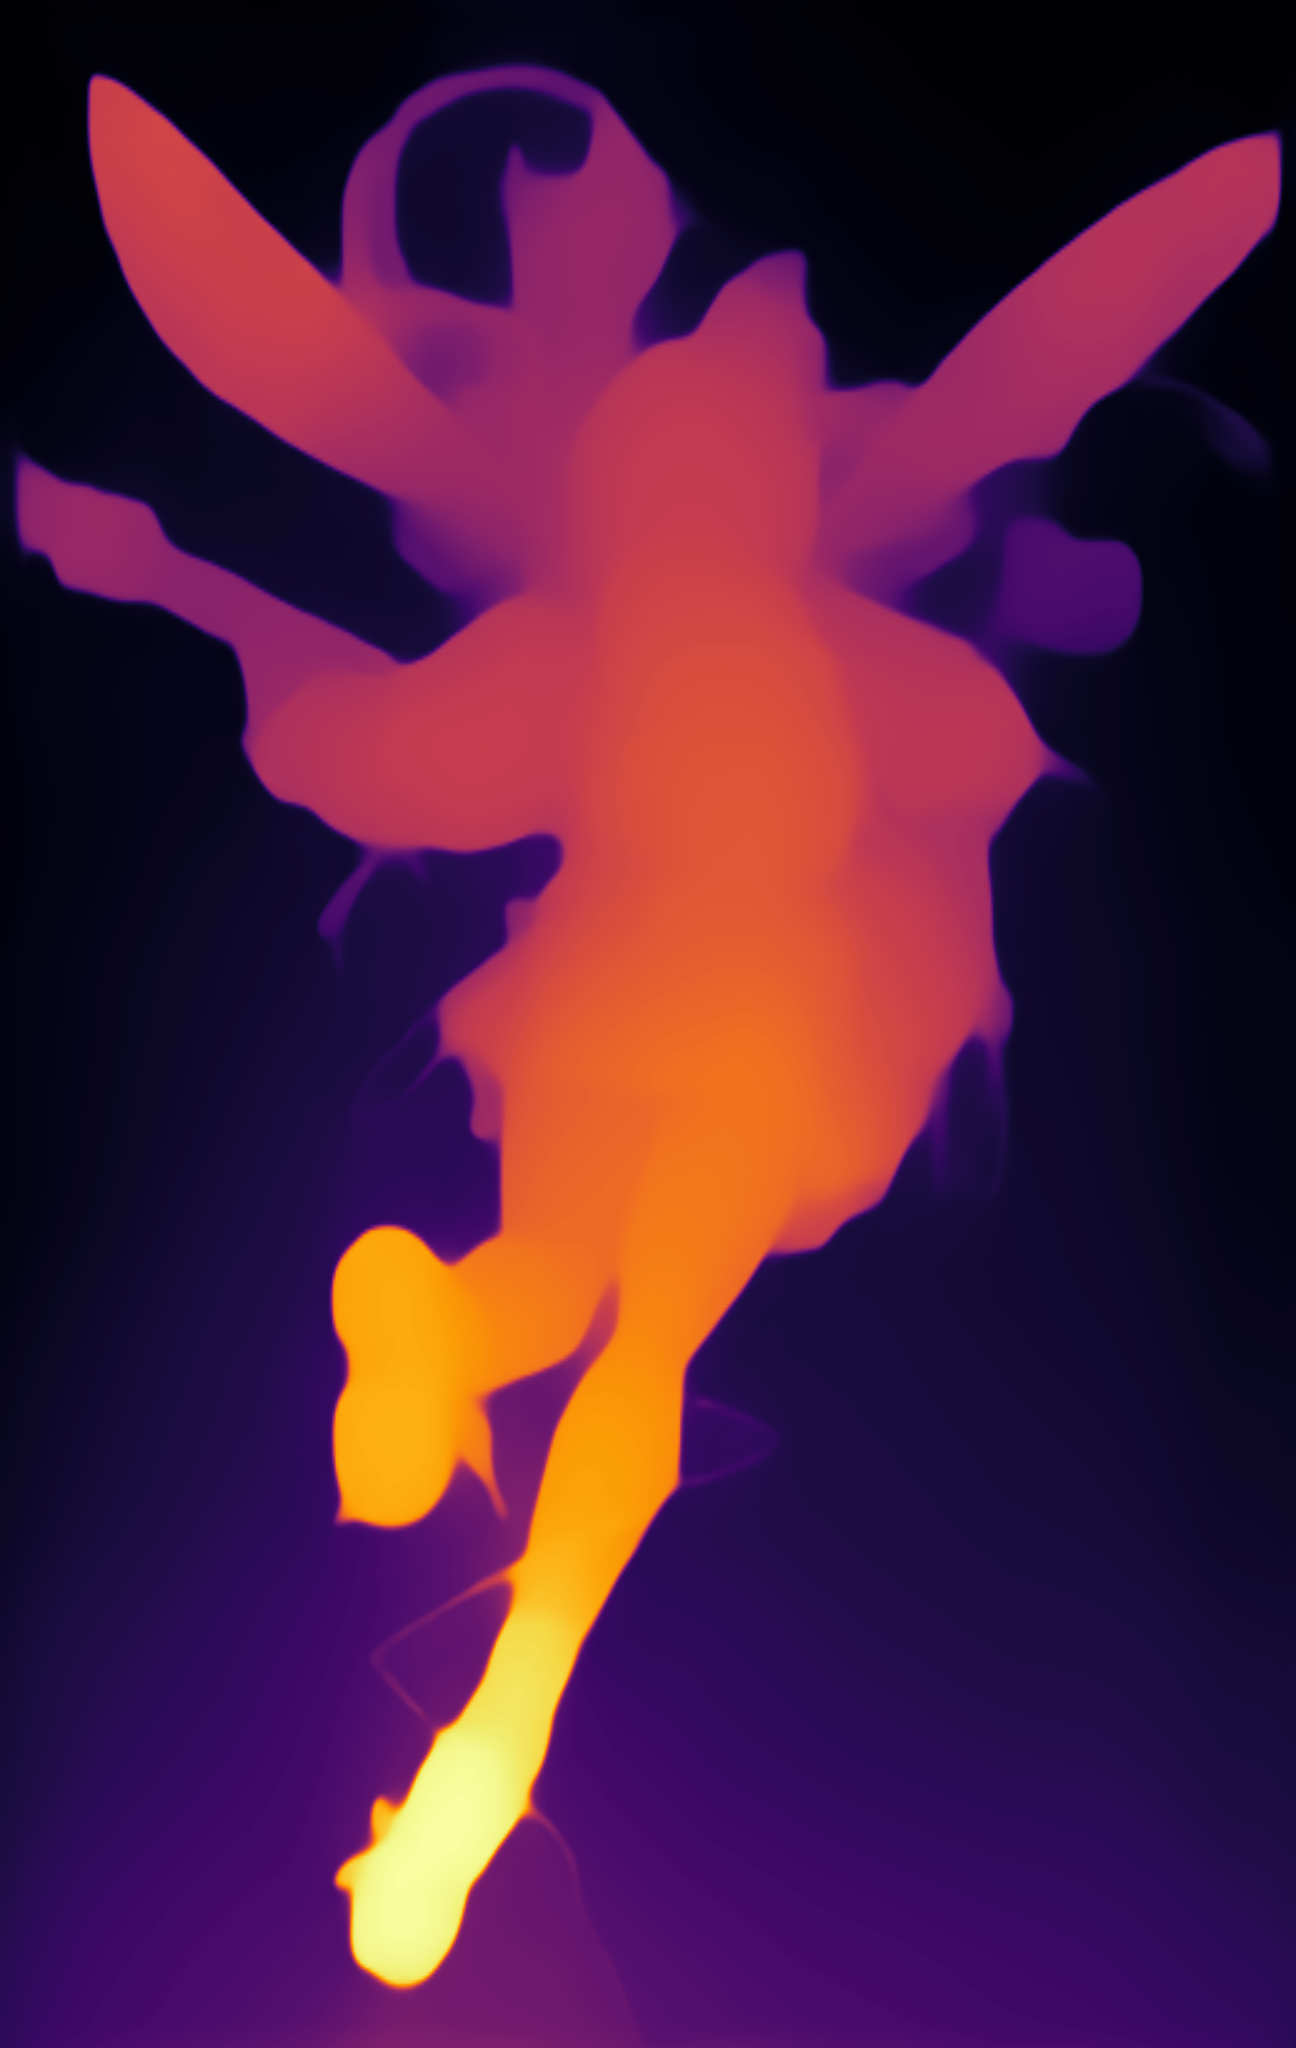p: (155, 172, 1157, 2014)
